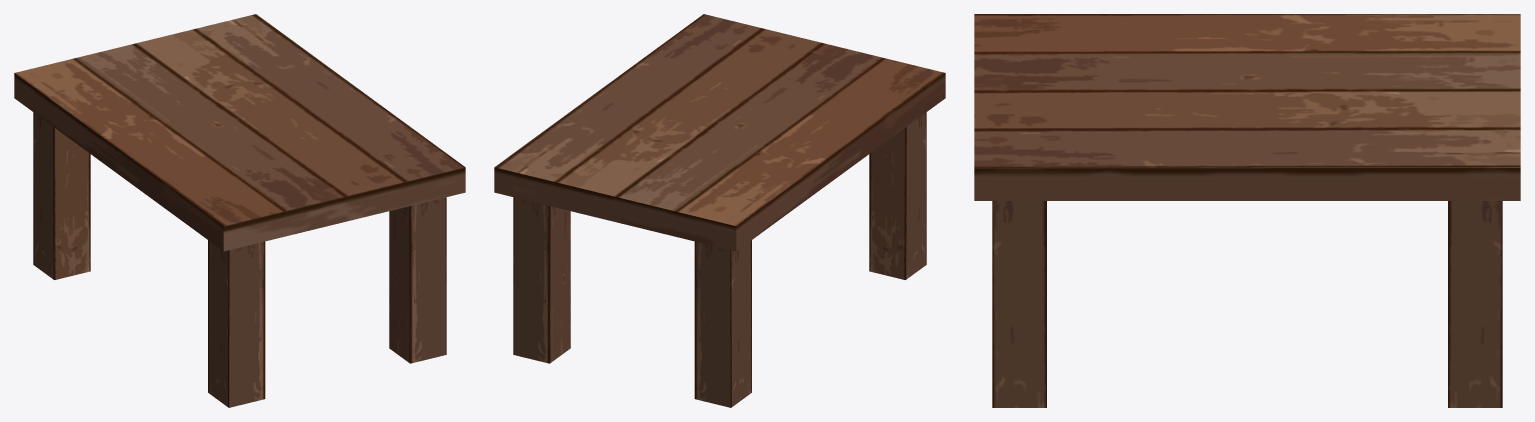
File: Table0.fbx
3 views of the same model, side by side, from view 1: azimuth 30°, elevation 25°; view 2: azimuth 150°, elevation 25°; view 3: azimuth 270°, elevation 25° (orthographic). The views are drawn at different scales.
Visible parts, largest first — view 1: Cube; view 2: Cube; view 3: Cube.
Boxes of the visible parts, x1=… form: Cube: x1=14, y1=14, x2=465, y2=407; Cube: x1=494, y1=14, x2=945, y2=407; Cube: x1=974, y1=14, x2=1520, y2=407.
Bounding box in the file's own units: 200 × 150 × 300.
